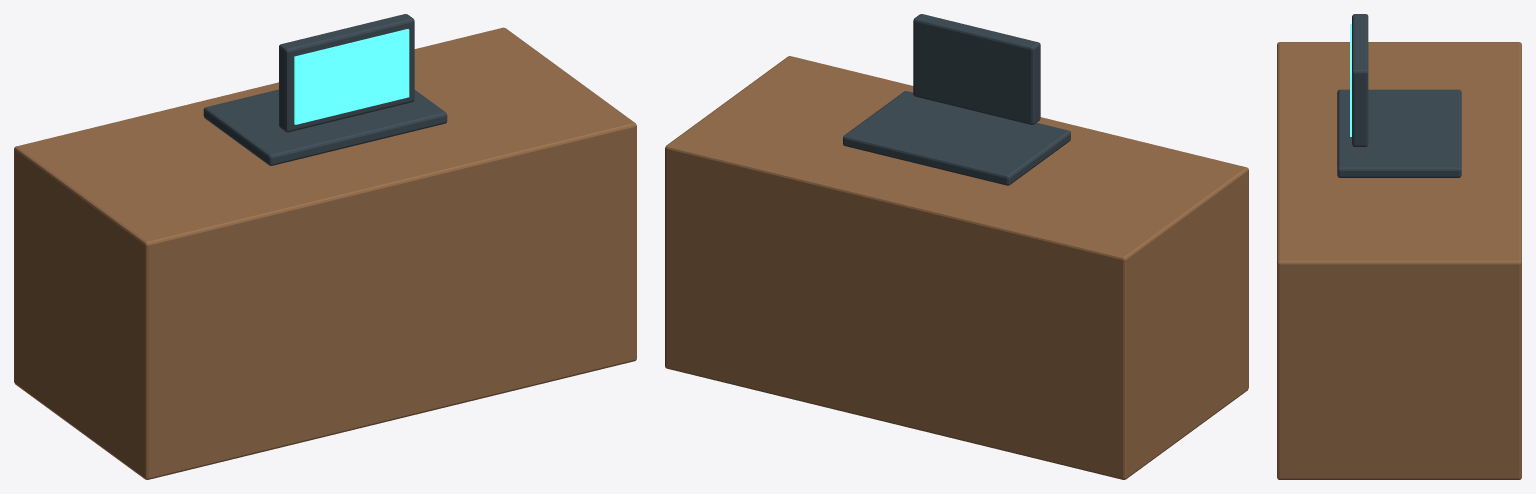
Rendered from CC_S16_P2_Expansion_Studio_ArtDesk_LOD0.fbx.
3 views of the same model, side by side, from view 1: azimuth 30°, elevation 25°; view 2: azimuth 150°, elevation 25°; view 3: azimuth 270°, elevation 25° (orthographic). The views are drawn at different scales.
Visible parts, largest first — view 1: CC_S16_P2_Expansion_Studio_ArtDesk_LOD0_Desk, CC_S16_P2_Expansion_Studio_ArtDesk_LOD0, CC_S16_P2_Expansion_Studio_ArtDesk_LOD0_DrawingTablet; view 2: CC_S16_P2_Expansion_Studio_ArtDesk_LOD0_Desk, CC_S16_P2_Expansion_Studio_ArtDesk_LOD0_DrawingTablet, CC_S16_P2_Expansion_Studio_ArtDesk_LOD0; view 3: CC_S16_P2_Expansion_Studio_ArtDesk_LOD0_Desk, CC_S16_P2_Expansion_Studio_ArtDesk_LOD0_DrawingTablet, CC_S16_P2_Expansion_Studio_ArtDesk_LOD0.
Part boxes in pixels (box(x1,y1,x2,y2)): CC_S16_P2_Expansion_Studio_ArtDesk_LOD0_Desk: box(14, 27, 636, 479); CC_S16_P2_Expansion_Studio_ArtDesk_LOD0: box(279, 14, 414, 132); CC_S16_P2_Expansion_Studio_ArtDesk_LOD0_DrawingTablet: box(203, 89, 447, 165); CC_S16_P2_Expansion_Studio_ArtDesk_LOD0_Desk: box(665, 56, 1248, 479); CC_S16_P2_Expansion_Studio_ArtDesk_LOD0_DrawingTablet: box(843, 91, 1070, 185); CC_S16_P2_Expansion_Studio_ArtDesk_LOD0: box(913, 14, 1040, 124); CC_S16_P2_Expansion_Studio_ArtDesk_LOD0_Desk: box(1277, 42, 1521, 479); CC_S16_P2_Expansion_Studio_ArtDesk_LOD0_DrawingTablet: box(1337, 89, 1461, 177); CC_S16_P2_Expansion_Studio_ArtDesk_LOD0: box(1350, 14, 1368, 146).
Size of what is drawn, in the model's own units: 1.6 by 1.11 by 0.75.
